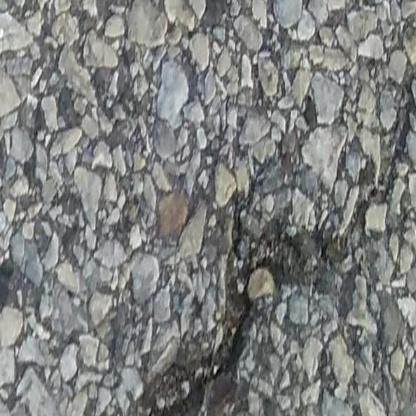Cracks: (127, 60, 416, 416)
